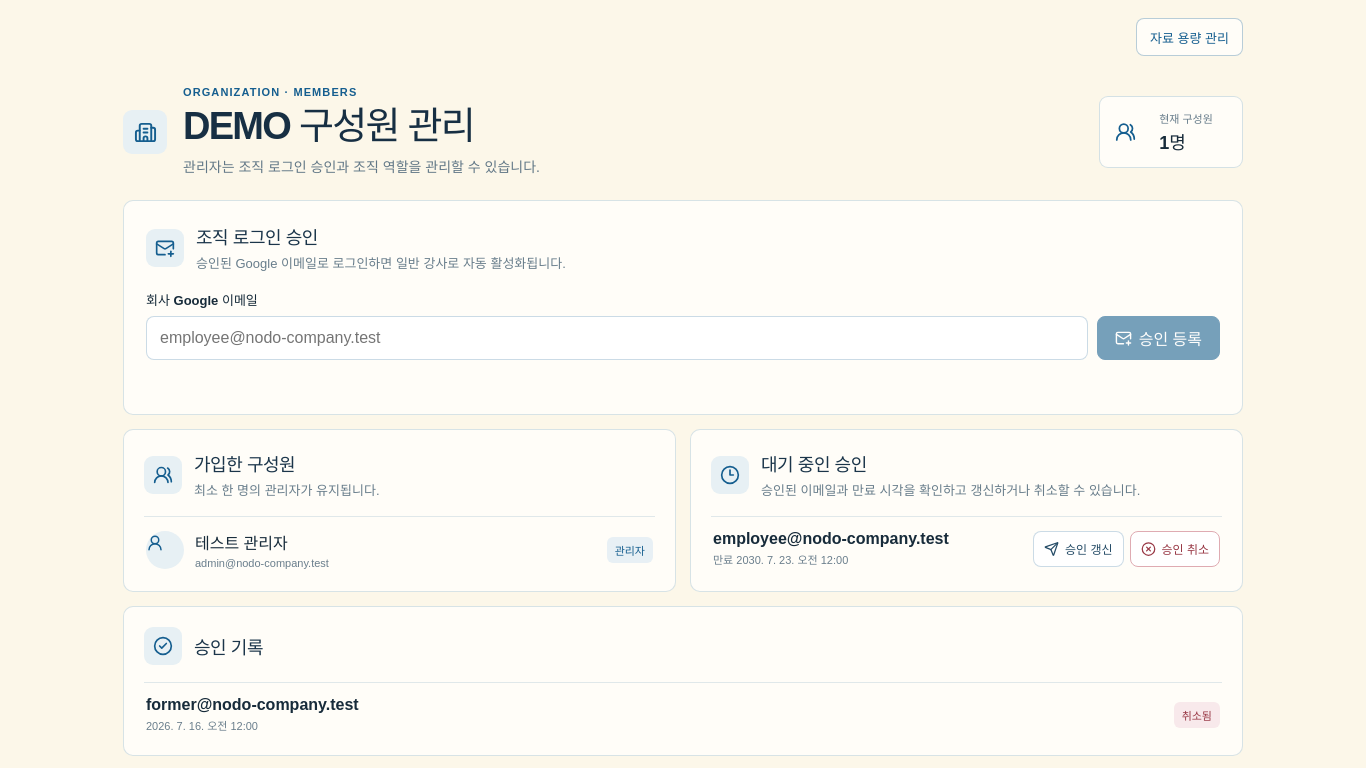
Scenario: 조직 구성원 관리 화면 › PENDING 승인을 취소하고 취소된 기록으로 이동한다
Expected: the heading "대기 중인 승인" is shown, [761,455,867,475]
Click the button with aria-label "employee@nodo-company.test 승인 취소": x=1175, y=549 [1130,531,1220,567]
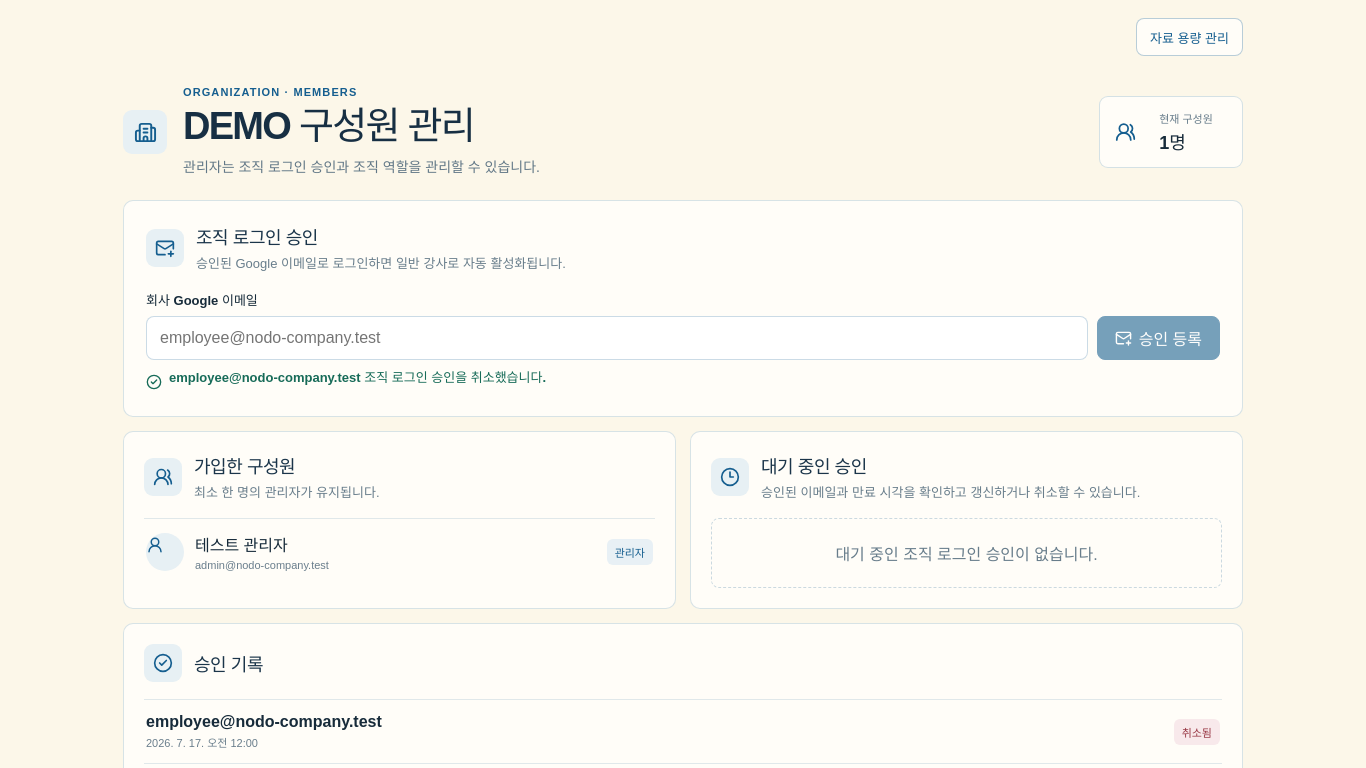
Result: the text "employee@nodo-company.test 조직 로그인 승인을 취소했습니다." is shown at [146,370,546,394]
